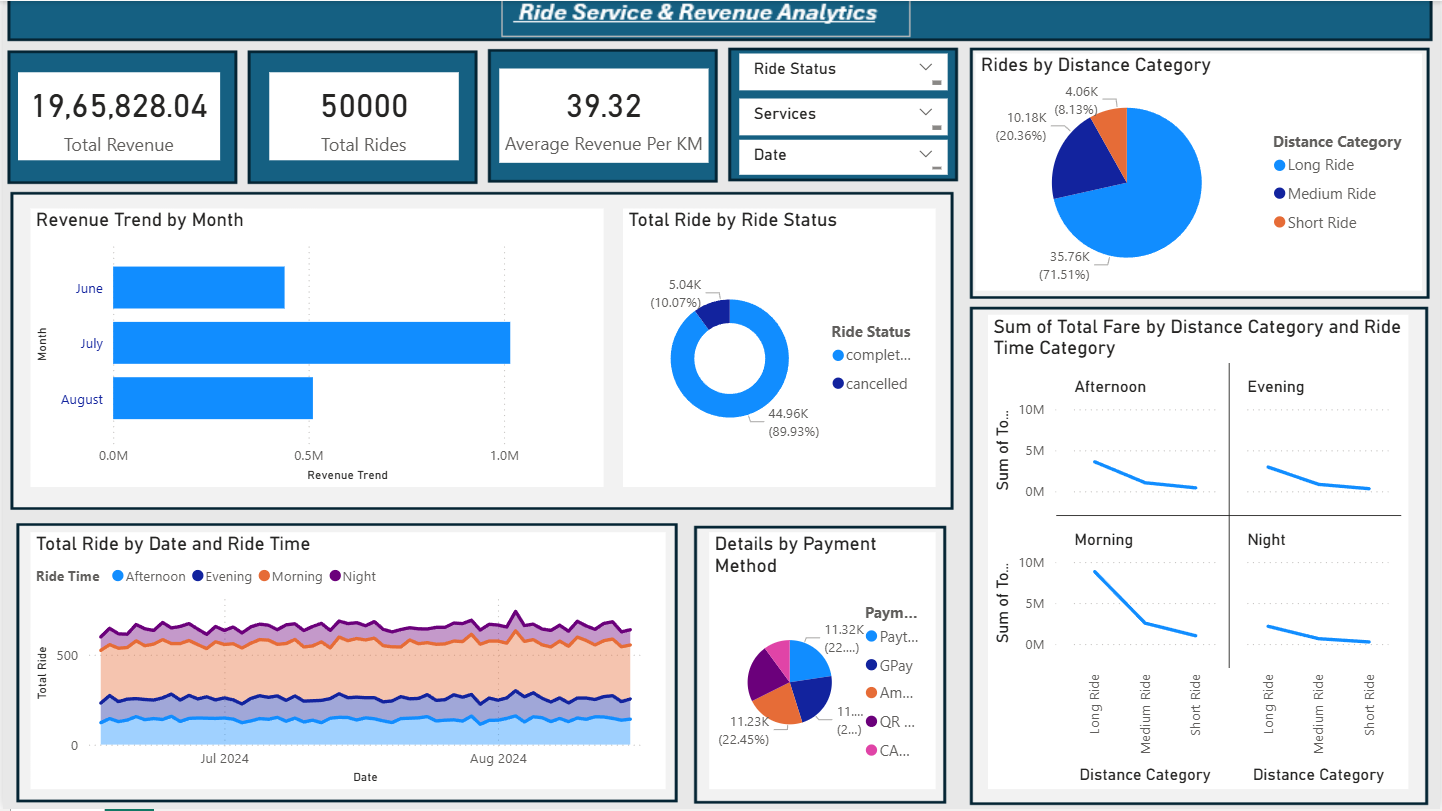

This screenshot's page, from the dashboard's own definition file:
{"tool":"powerbi","page":{"name":"Ride Service & Revenue Analytsis","canvas":[1280,720],"ordinal":0},"visuals":[{"type":"card","fields":{"Values":["Sum(rides_data.Revenue Per KM)"]},"box":[13.7,63.1,179.8,78.2],"z":0},{"type":"card","fields":{"Values":["Count(rides_data.Ride ID)"]},"box":[237.4,63.1,168.8,78.2],"z":1000},{"type":"card","fields":{"Values":["Avg(rides_data.Revenue Per KM)"]},"box":[441.9,60.4,186.6,83.7],"z":2000},{"type":"slicer","fields":{"Values":["rides_data.Ride Status"]},"box":[655.9,46.7,185.2,32.9],"z":3000},{"type":"slicer","fields":{"Values":["rides_data.Services"]},"box":[655.9,86.4,185.2,32.9],"z":4000},{"type":"slicer","fields":{"Values":["rides_data.Date"]},"box":[655.9,123.5,185.2,31.6],"z":5000},{"type":"barChart","fields":{"Category":["rides_data.Date.Variation.Date Hierarchy.Month"],"Y":["Sum(rides_data.Revenue Per KM)"]},"box":[24.7,185.2,510.5,248.4],"z":6000},{"type":"donutChart","fields":{"Category":["rides_data.Ride Status"],"Y":["Count(rides_data.Ride ID)"]},"box":[551.6,185.2,278.6,248.4],"z":7000},{"type":"pieChart","fields":{"Category":["rides_data.Distance Category"],"Y":["CountNonNull(rides_data.Ride ID)"]},"box":[865.9,46.7,397.9,211.3],"z":8000},{"type":"pieChart","fields":{"Category":["rides_data.Payment Method"],"Y":["CountNonNull(rides_data.Ride ID)"]},"box":[628.5,473.4,201.7,229.2],"z":9000},{"type":"stackedAreaChart","fields":{"Category":["rides_data.Date"],"Series":["rides_data.Ride Time Category"],"Y":["Count(rides_data.Ride Charge)"]},"box":[24.7,473.4,565.4,229.2],"z":10000},{"type":"lineChart","fields":{"Category":["rides_data.Distance Category"],"Rows":["rides_data.Ride Time Category"],"Y":["Sum(rides_data.Total Fare)"]},"box":[876.8,279.9,374.6,422.6],"z":11000}]}

Visuals, with their boxes in screenshot pixels (x1, y1, x2, y2), scaled from the page's 1280x720 canvas onto the 1442x811 screenshot:
card - Sum(rides_data.Revenue Per KM): bbox(15, 71, 218, 159)
card - Count(rides_data.Ride ID): bbox(267, 71, 458, 159)
card - Avg(rides_data.Revenue Per KM): bbox(498, 68, 708, 162)
slicer - rides_data.Ride Status: bbox(739, 53, 948, 90)
slicer - rides_data.Services: bbox(739, 97, 948, 134)
slicer - rides_data.Date: bbox(739, 139, 948, 175)
barChart - rides_data.Date.Variation.Date Hierarchy.Month x Sum(rides_data.Revenue Per KM): bbox(28, 209, 603, 488)
donutChart - rides_data.Ride Status x Count(rides_data.Ride ID): bbox(621, 209, 935, 488)
pieChart - rides_data.Distance Category x CountNonNull(rides_data.Ride ID): bbox(975, 53, 1424, 291)
pieChart - rides_data.Payment Method x CountNonNull(rides_data.Ride ID): bbox(708, 533, 935, 791)
stackedAreaChart - rides_data.Date x rides_data.Ride Time Category: bbox(28, 533, 665, 791)
lineChart - rides_data.Distance Category x rides_data.Ride Time Category: bbox(988, 315, 1410, 791)
